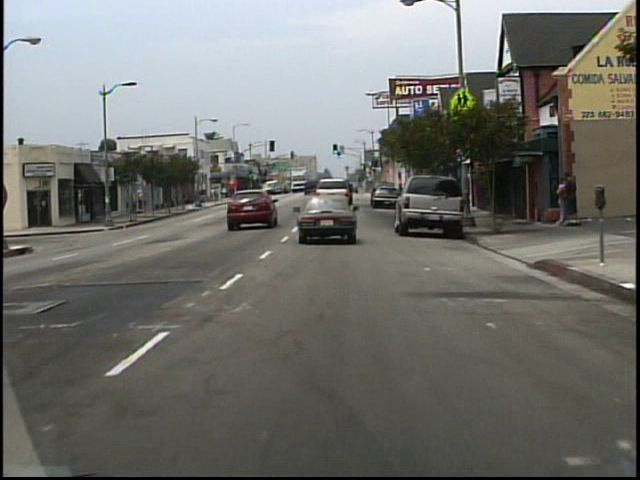person: (562, 170, 578, 226), (555, 177, 571, 228), (137, 187, 148, 214)
